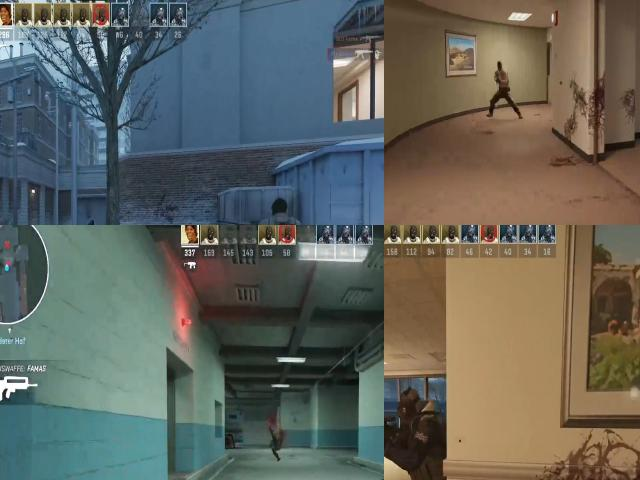CT: (396, 396, 445, 480)
CT-Head: (394, 385, 424, 440)
Dead: (267, 424, 289, 463)
T: (255, 199, 302, 225), (493, 59, 509, 93)
T-Head: (268, 197, 287, 225), (497, 60, 504, 71)
